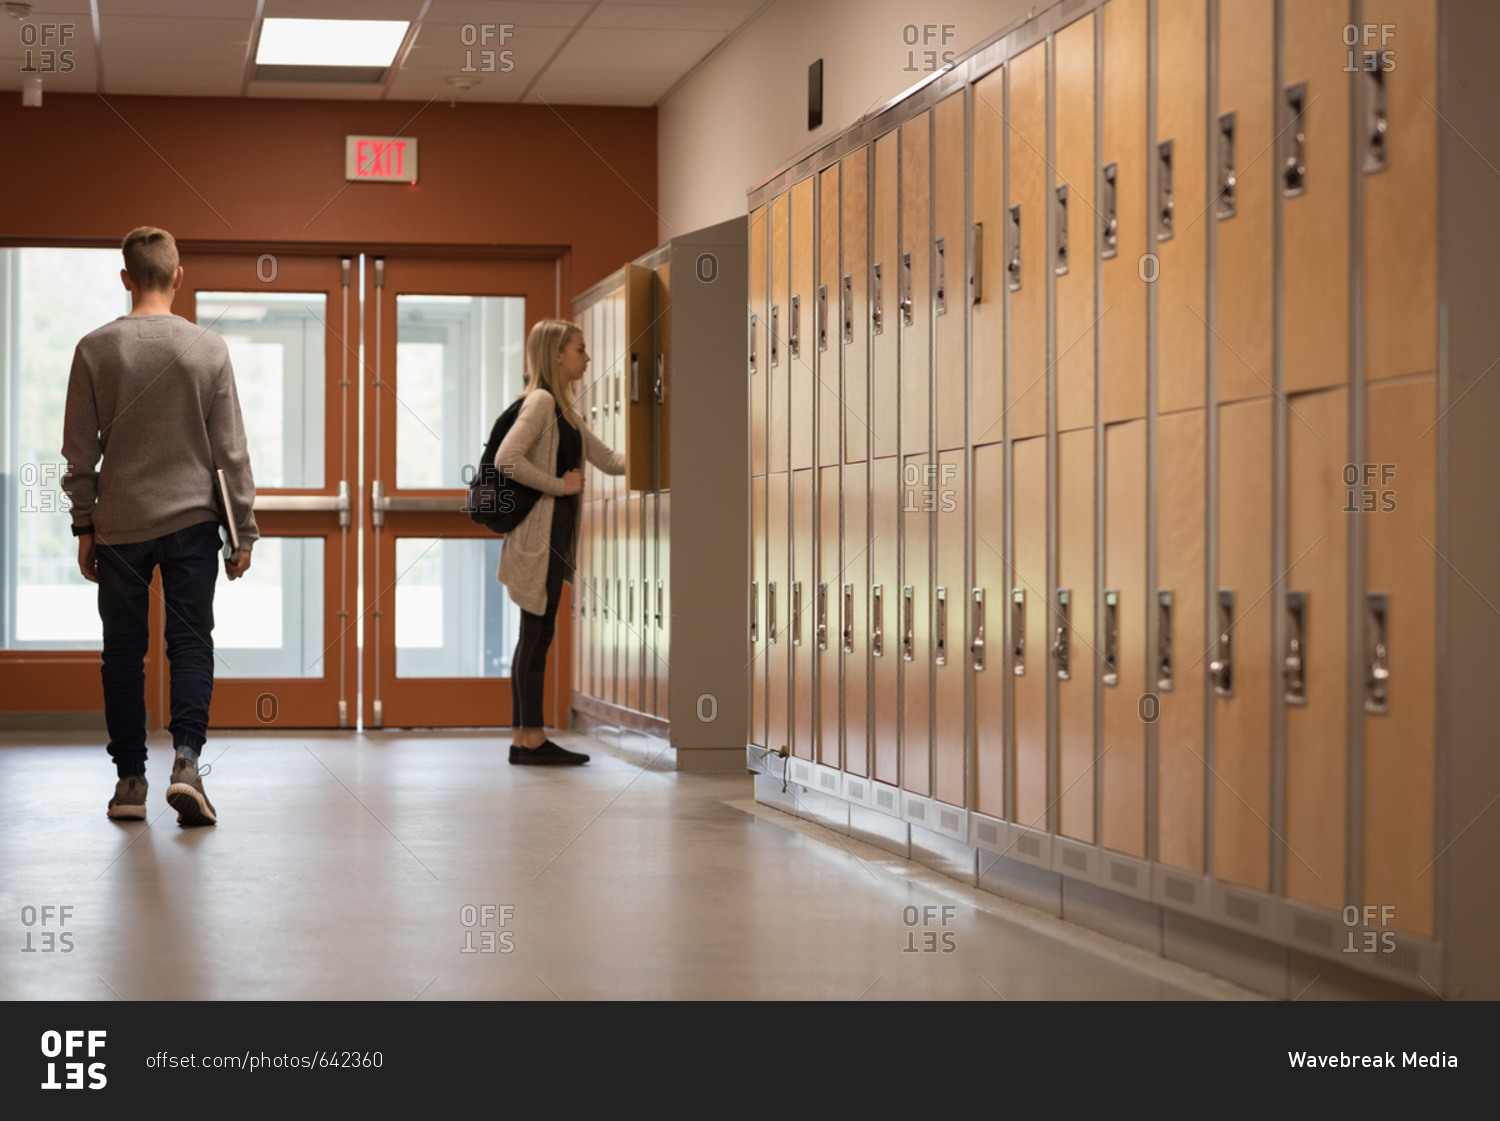students: (57, 224, 259, 834), (468, 318, 630, 764)
